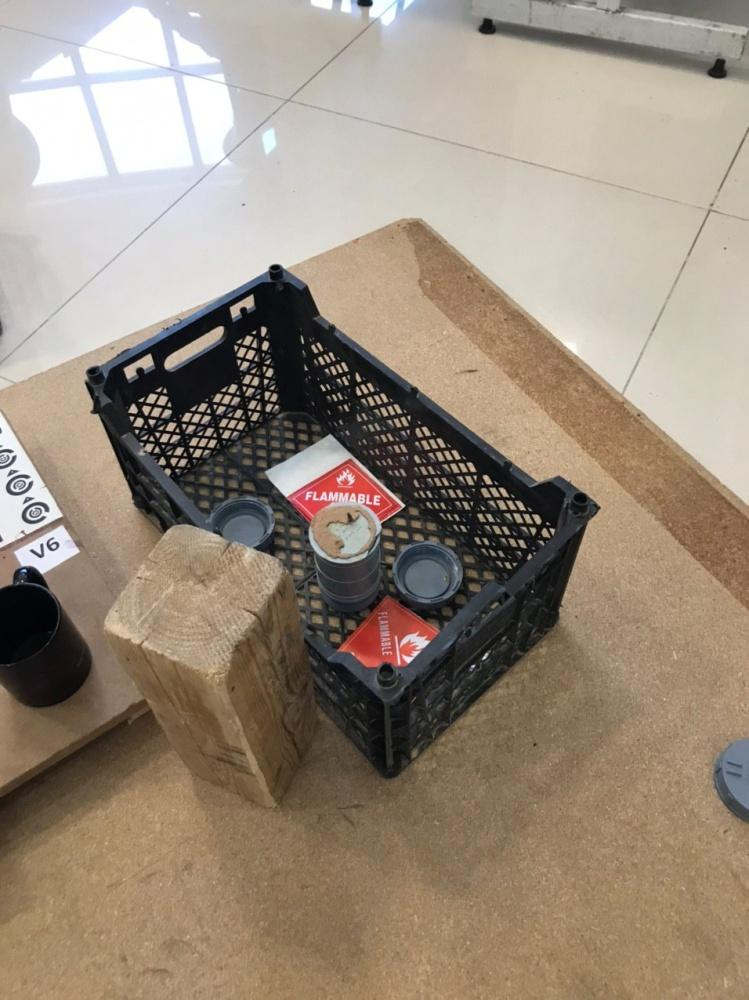flammable: (339, 602, 439, 673), (287, 464, 399, 525)
